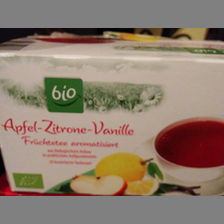tea: (1, 41, 224, 194)
